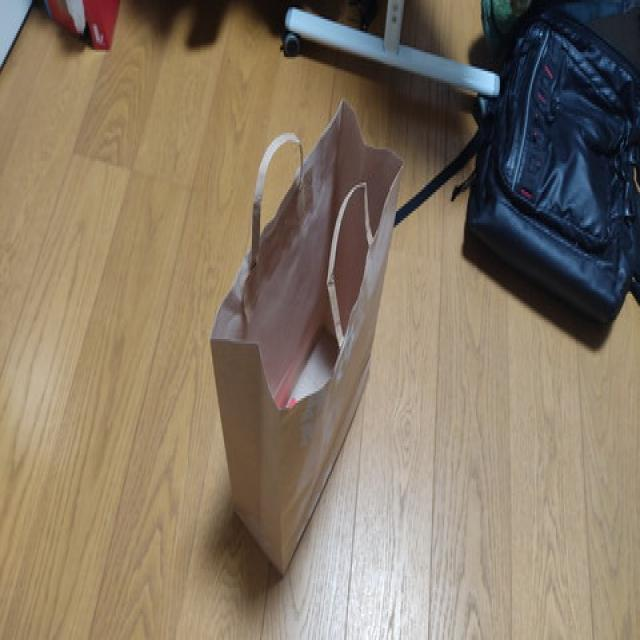paper bag: (208, 94, 407, 581)
